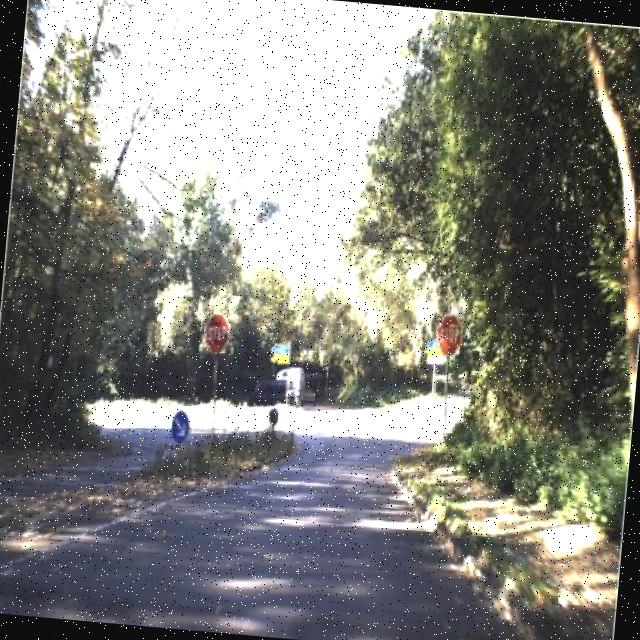Stop: (432, 312, 466, 361), (202, 310, 232, 358)
